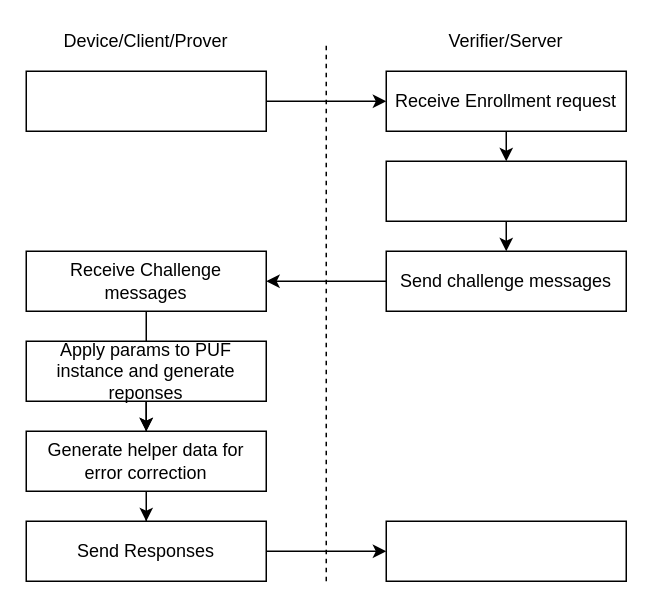
Some shapes in this 653 by 609 pixel diagram are drawn without their labels. Each missing label, with the centre of its shape:
Generate combination of challenge messages and parameters: [505,190]
Receive responses: [505,550]
Send Enrollment Request: [145,100]
